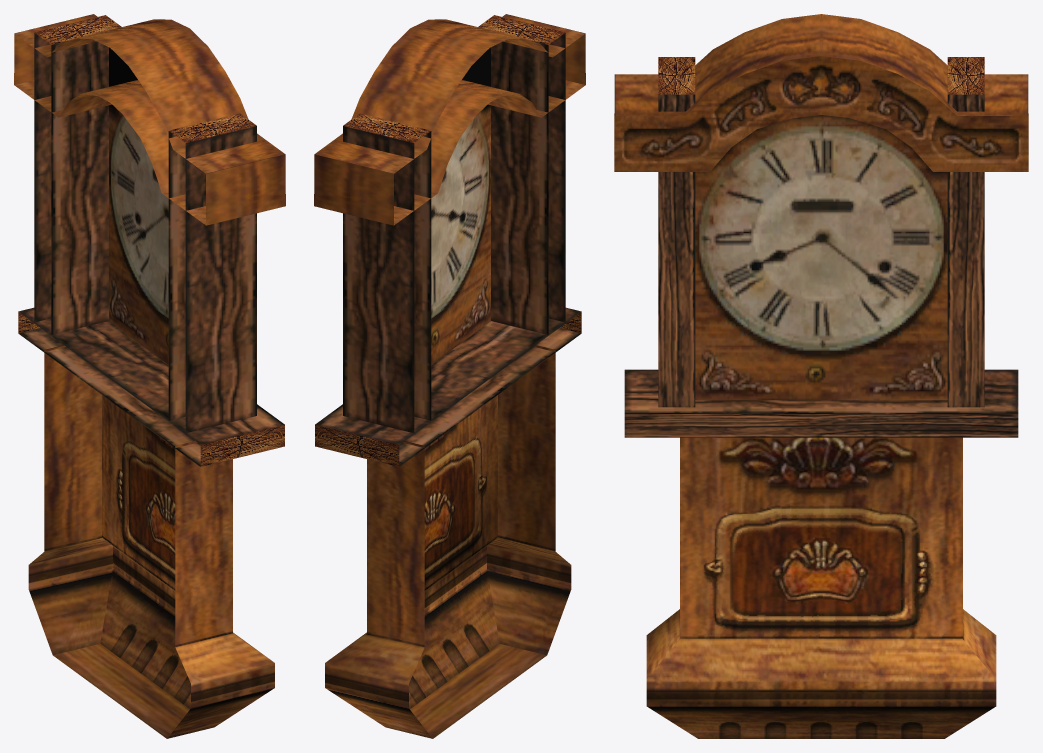
File: INST_LT_WALLCLOCK.fbx
3 renders of one model, left to right at view 1: azimuth 30°, elevation 25°; view 2: azimuth 150°, elevation 25°; view 3: azimuth 270°, elevation 25°, orthographic. The views are drawn at different scales.
Visible parts, largest first — view 1: INST_LT_WALLCLOCK; view 2: INST_LT_WALLCLOCK; view 3: INST_LT_WALLCLOCK.
Part boxes in pixels (x1,y1,x2,y2): INST_LT_WALLCLOCK: [14, 14, 285, 738]; INST_LT_WALLCLOCK: [314, 14, 585, 738]; INST_LT_WALLCLOCK: [614, 14, 1028, 738].
Bounding box in the file's own units: 1009 × 7395 × 3964.
Materials: 5 (5 with a texture image).
